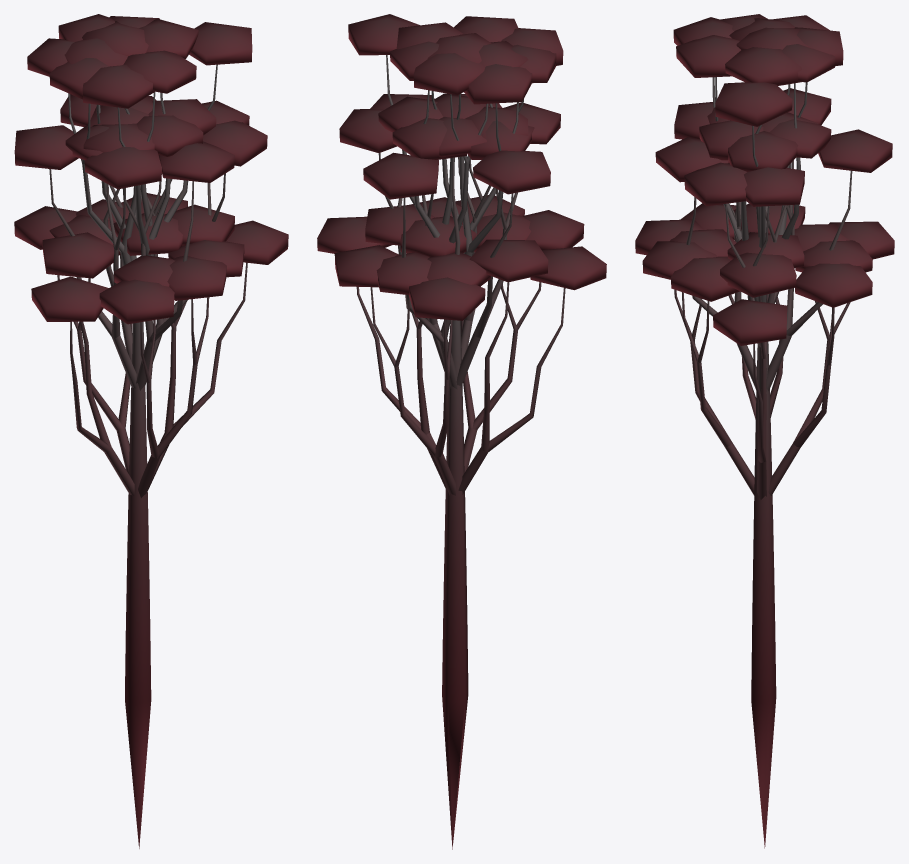
File: plants-trees-palms-tiered-red-tree_v6.fbx
3 views of the same model, side by side, from view 1: azimuth 30°, elevation 25°; view 2: azimuth 150°, elevation 25°; view 3: azimuth 270°, elevation 25° (orthographic).
Visible parts, largest first — view 1: Tiered Red Tree_v6; view 2: Tiered Red Tree_v6; view 3: Tiered Red Tree_v6.
Part boxes in pixels (left/top/right/bottom): Tiered Red Tree_v6: left=14, top=14, right=288, bottom=848; Tiered Red Tree_v6: left=317, top=14, right=606, bottom=849; Tiered Red Tree_v6: left=635, top=14, right=894, bottom=848.
Size of the model in its own units: 1.99 by 6 by 1.74.
